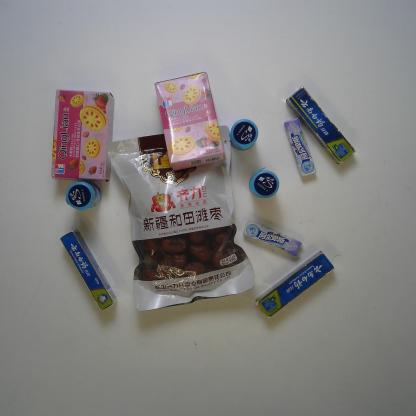Candy: (243, 221, 304, 256), (283, 118, 317, 176)
Dessert: (154, 71, 227, 171), (50, 89, 114, 182)
Dried Food: (107, 126, 256, 312)
Gum: (64, 180, 102, 211), (230, 119, 258, 152), (249, 170, 279, 199)
Personal Hygiene: (286, 86, 356, 164), (255, 250, 335, 318), (60, 229, 117, 310)
